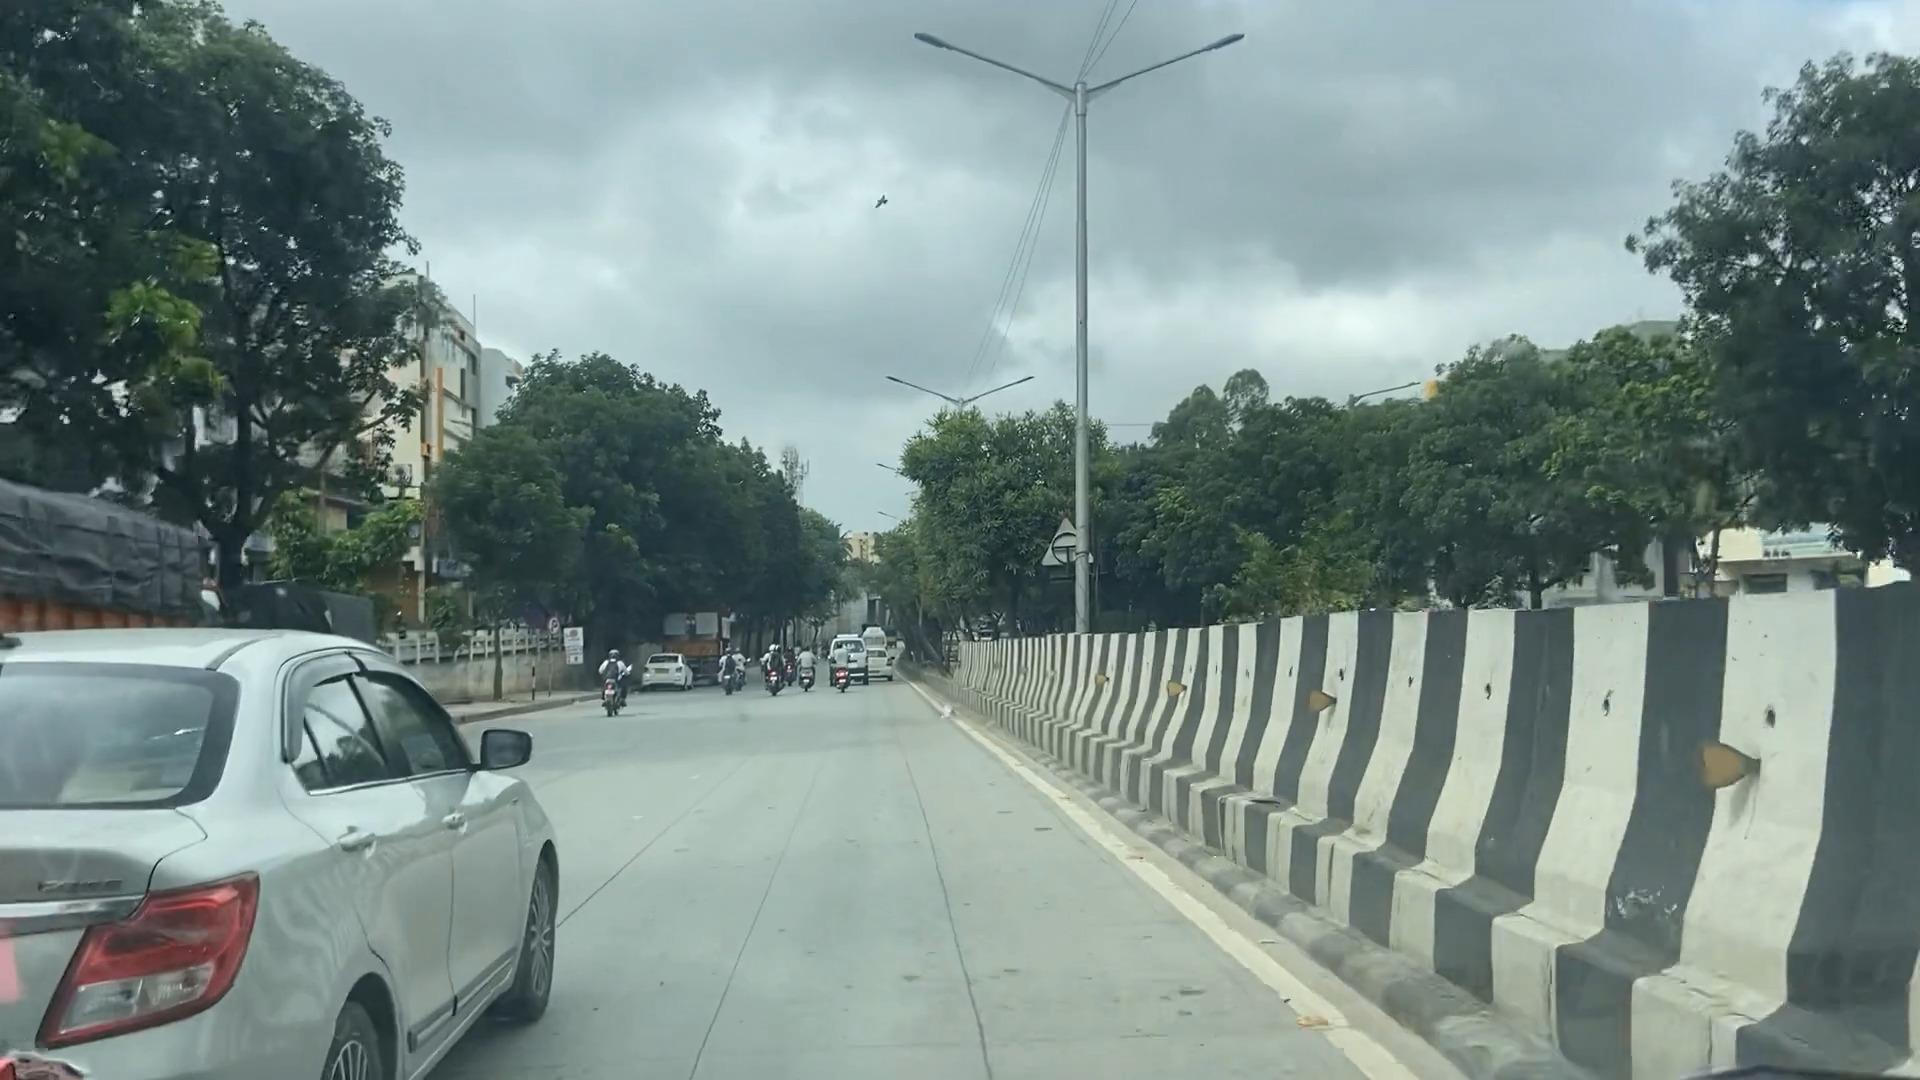LMV: (16, 633, 573, 1080)
